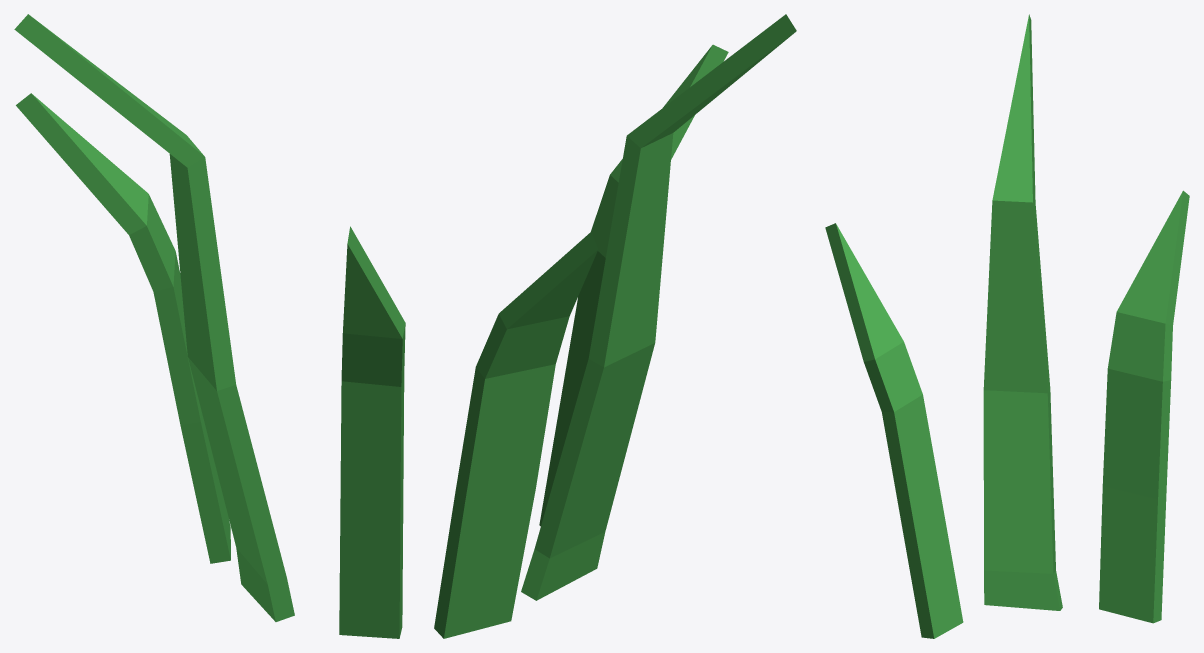
The model's file is Grass_03.fbx.
The picture shows the model from 3 angles, left to right: view 1: azimuth 30°, elevation 25°; view 2: azimuth 150°, elevation 25°; view 3: azimuth 270°, elevation 25°; orthographic projection. The views are drawn at different scales.
Visible parts, largest first — view 1: Grass_03; view 2: Grass_03; view 3: Grass_03.
Part boxes in pixels (box(x1,y1,x2,y2)): Grass_03: box(14, 14, 405, 638); Grass_03: box(434, 14, 796, 638); Grass_03: box(825, 14, 1189, 638).
Bounding box in the file's own units: 12.57 × 23.89 × 15.54.
